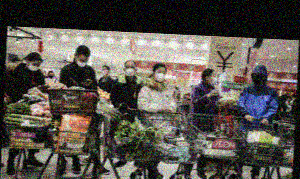with_mask: (154, 69, 166, 84), (26, 61, 42, 72), (75, 58, 89, 70), (123, 64, 135, 78), (251, 72, 263, 85), (208, 72, 217, 87), (99, 67, 108, 76), (47, 72, 54, 80), (286, 98, 292, 103), (291, 97, 295, 102), (173, 88, 177, 92)
